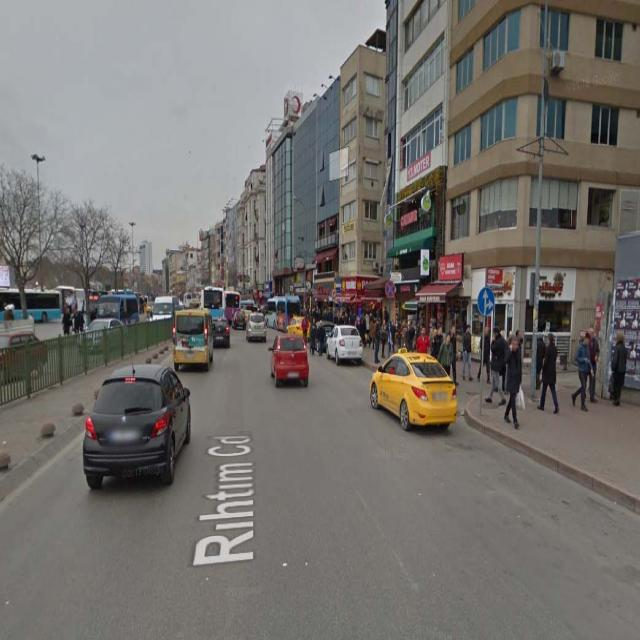ilerisag: (477, 288, 494, 316)
